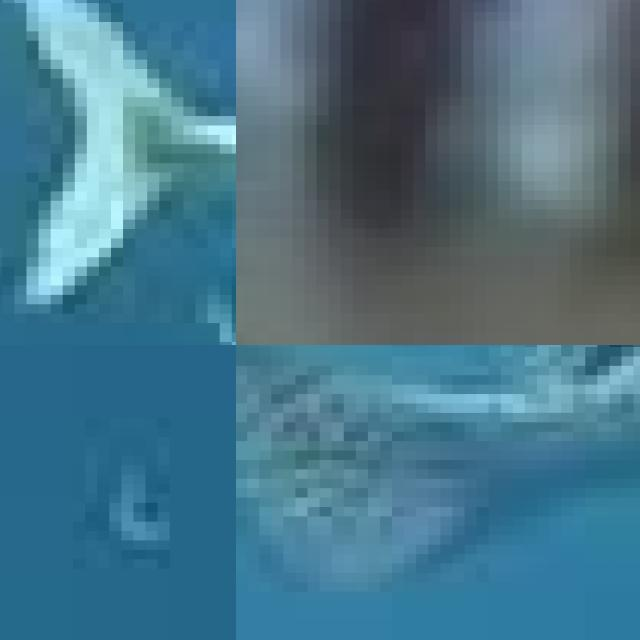fish: (236, 0, 640, 345), (0, 0, 236, 345)
